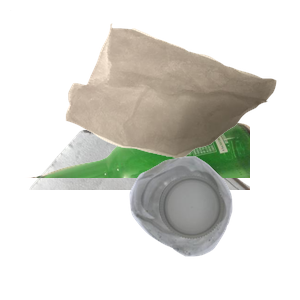glass: (23, 120, 263, 300)
paper: (10, 10, 250, 190)
plastic: (127, 154, 300, 300)
trash: (63, 21, 300, 172)
